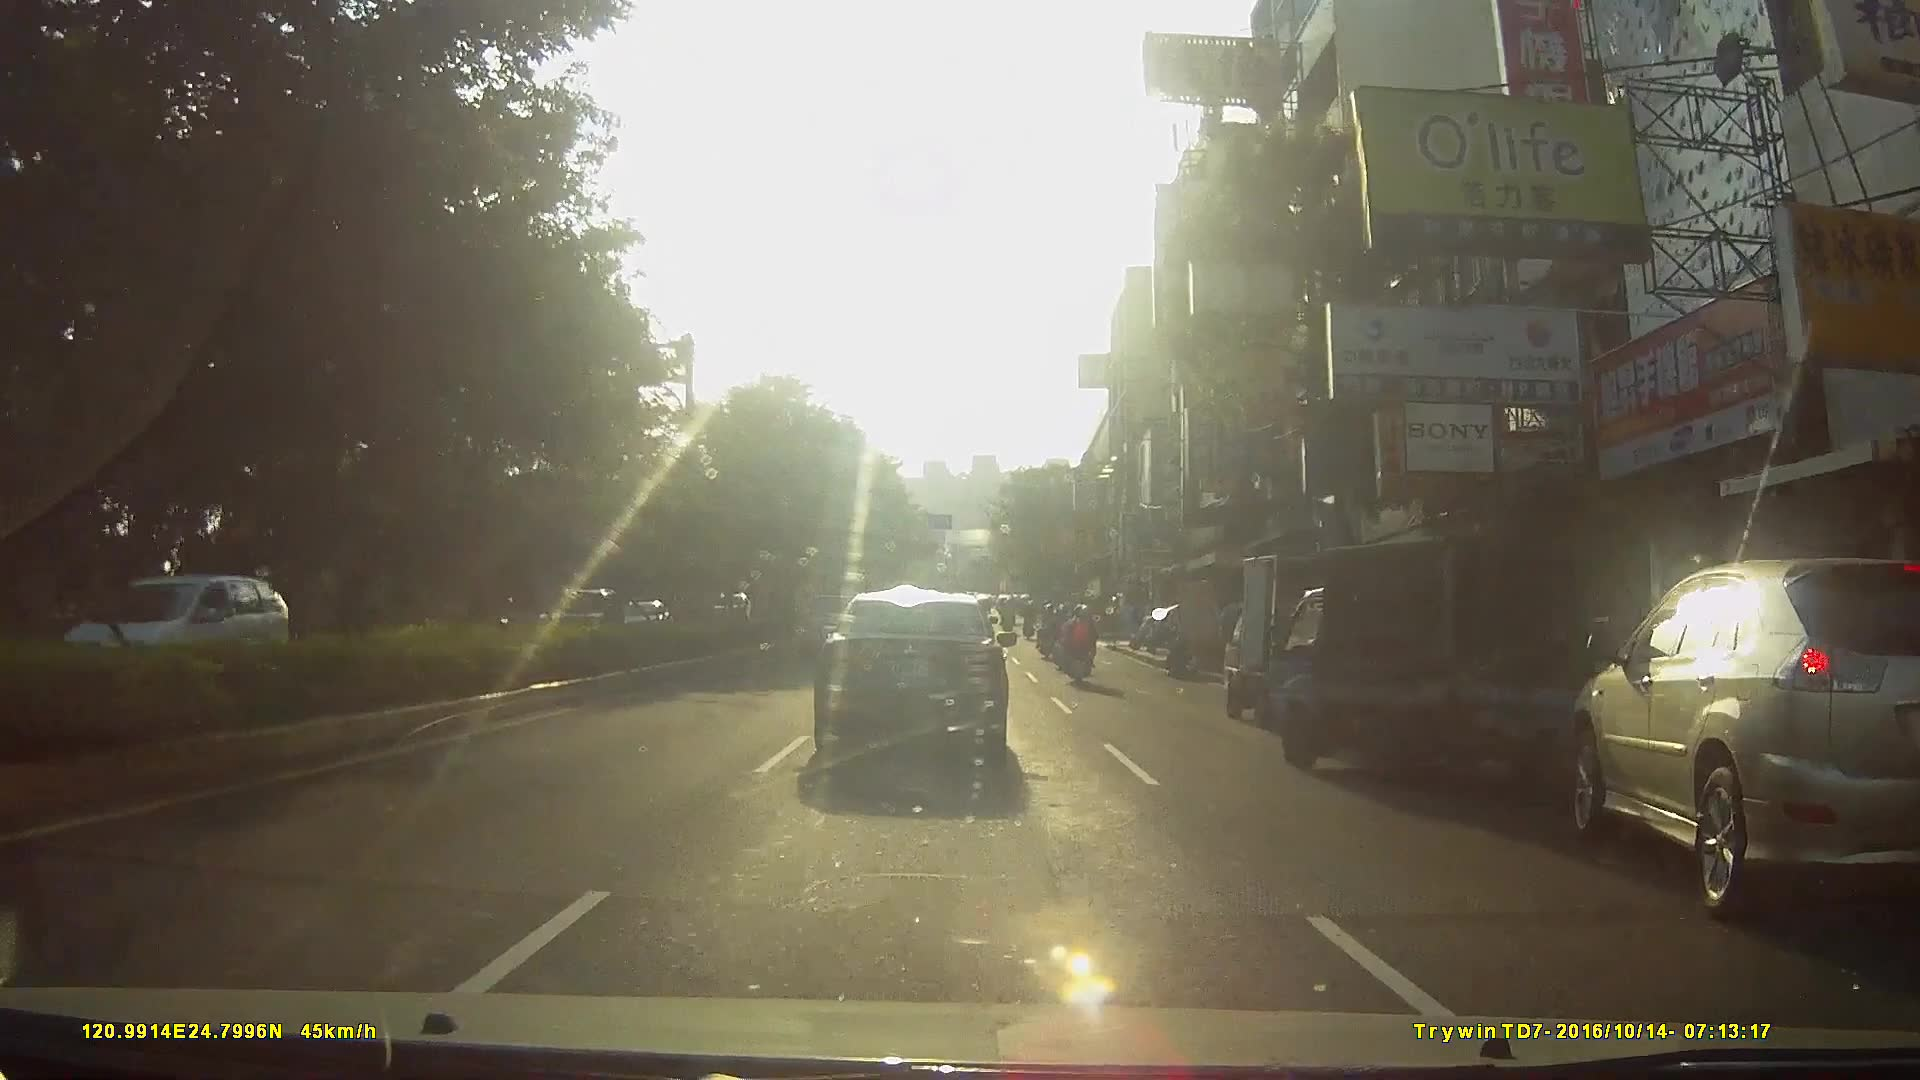rider: (1057, 607, 1100, 696), (1038, 606, 1059, 663)
vehicle: (1542, 548, 1920, 916), (1271, 522, 1643, 811), (811, 589, 1031, 780), (1211, 548, 1419, 735), (62, 570, 291, 682)
